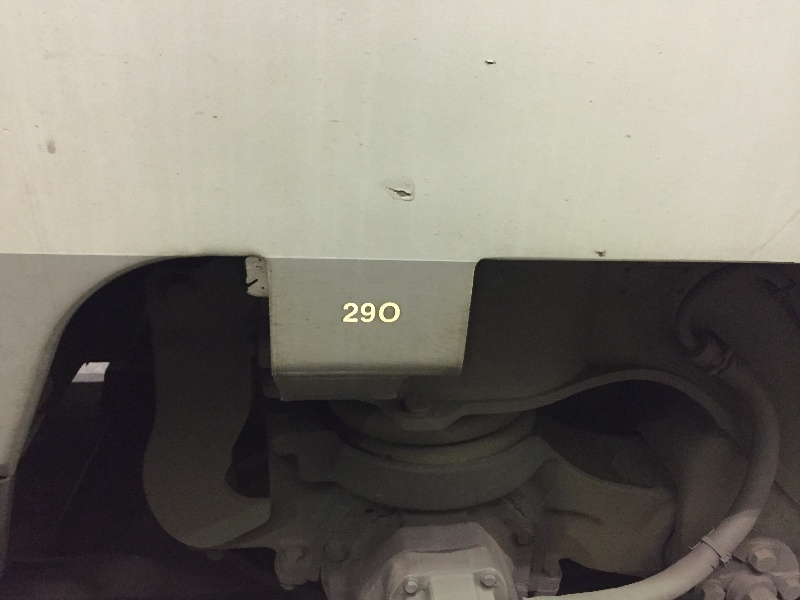text: (385, 302, 401, 323), (353, 302, 368, 323), (369, 302, 384, 323), (344, 302, 352, 323)
